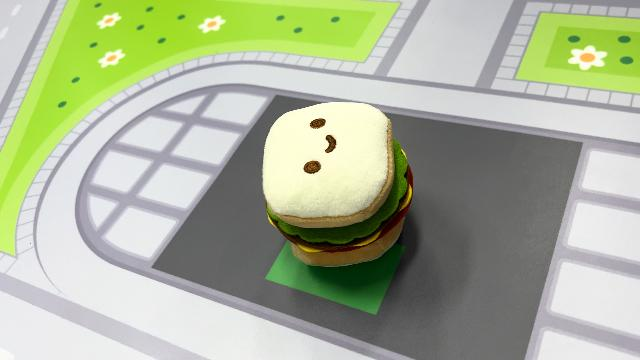sandwich: (260, 98, 414, 268)
